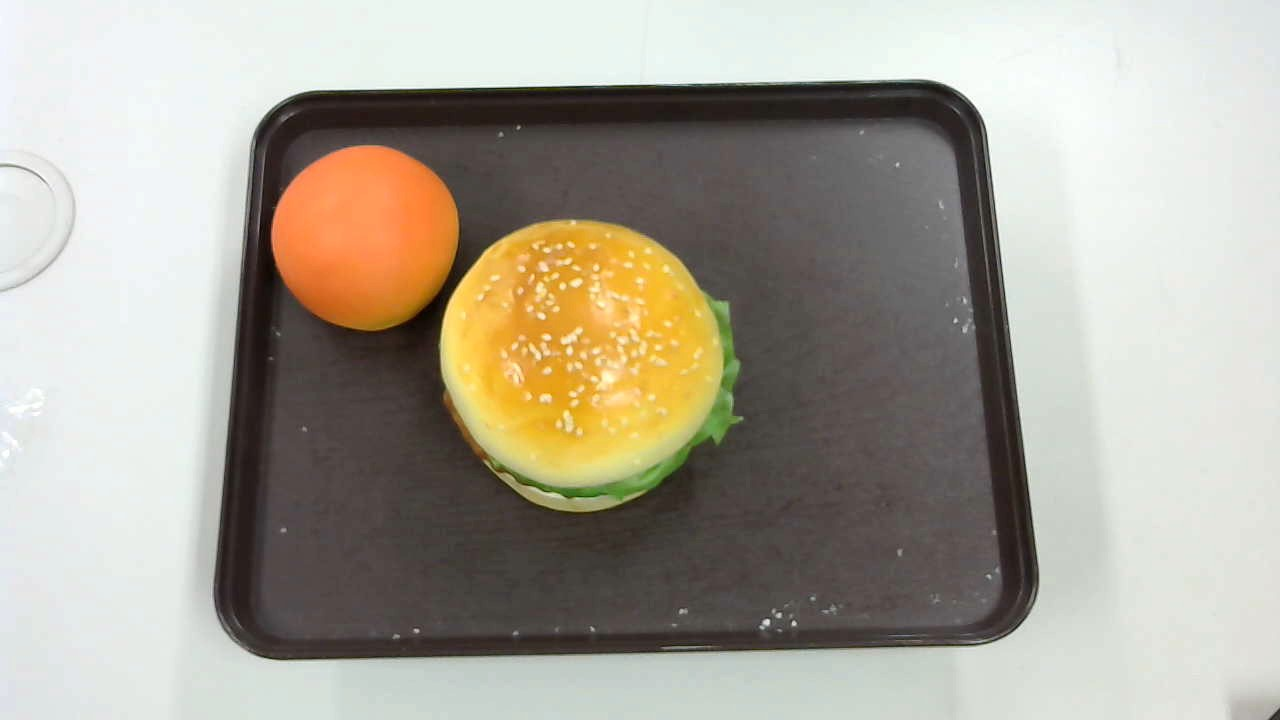bun: (270, 144, 458, 331)
hamburger: (438, 217, 745, 511)
